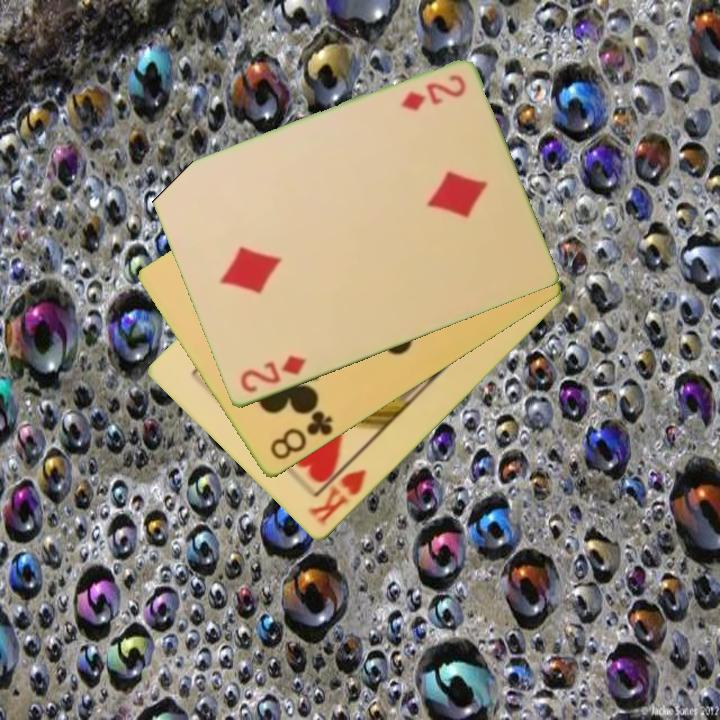2d: (236, 352, 310, 397), (397, 71, 469, 115)
8c: (266, 407, 336, 464)
Kh: (304, 453, 370, 530)
